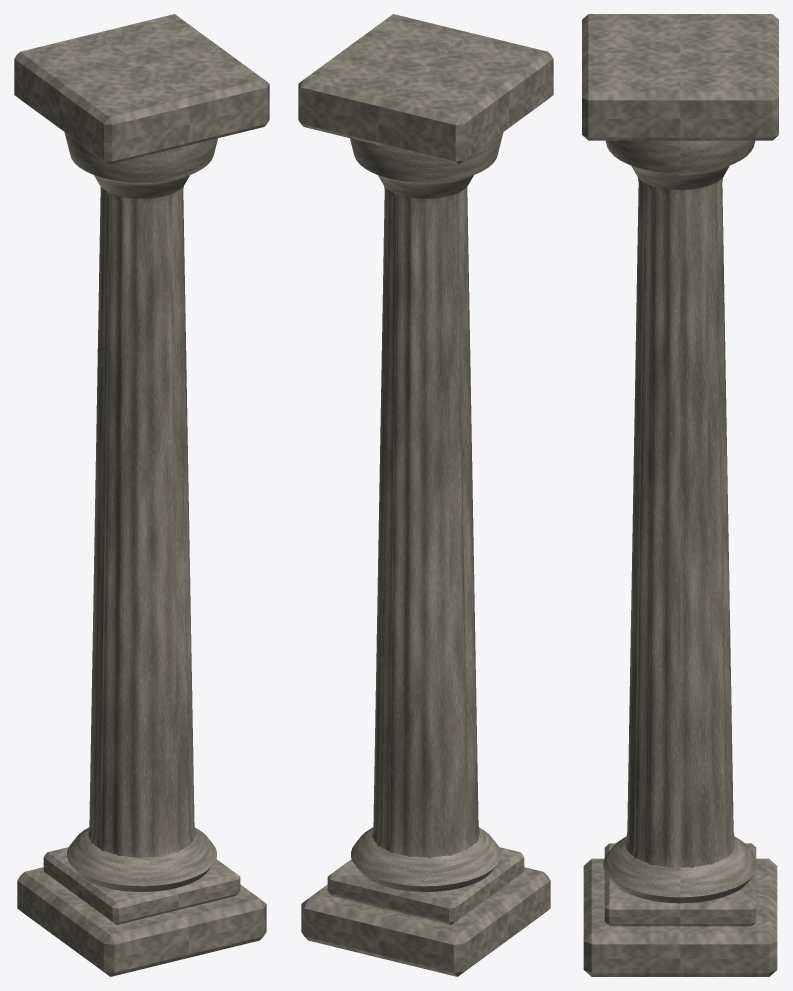
The model's file is pillar.glb.
3 views of the same model, side by side, from view 1: azimuth 30°, elevation 25°; view 2: azimuth 150°, elevation 25°; view 3: azimuth 270°, elevation 25° (orthographic). The views are drawn at different scales.
Visible parts, largest first — view 1: pillar; view 2: pillar; view 3: pillar.
Boxes of the visible parts, x1,y1,x2,y2 form: pillar: (14, 14, 269, 976); pillar: (298, 14, 553, 976); pillar: (582, 14, 778, 976).
Size of the model in its own units: 0.62 by 3.08 by 0.62.
Materials: 1 (1 with a texture image).
